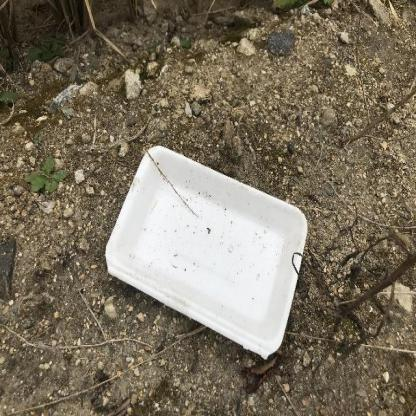Glass Cup: (106, 144, 310, 360), (105, 146, 307, 359)
